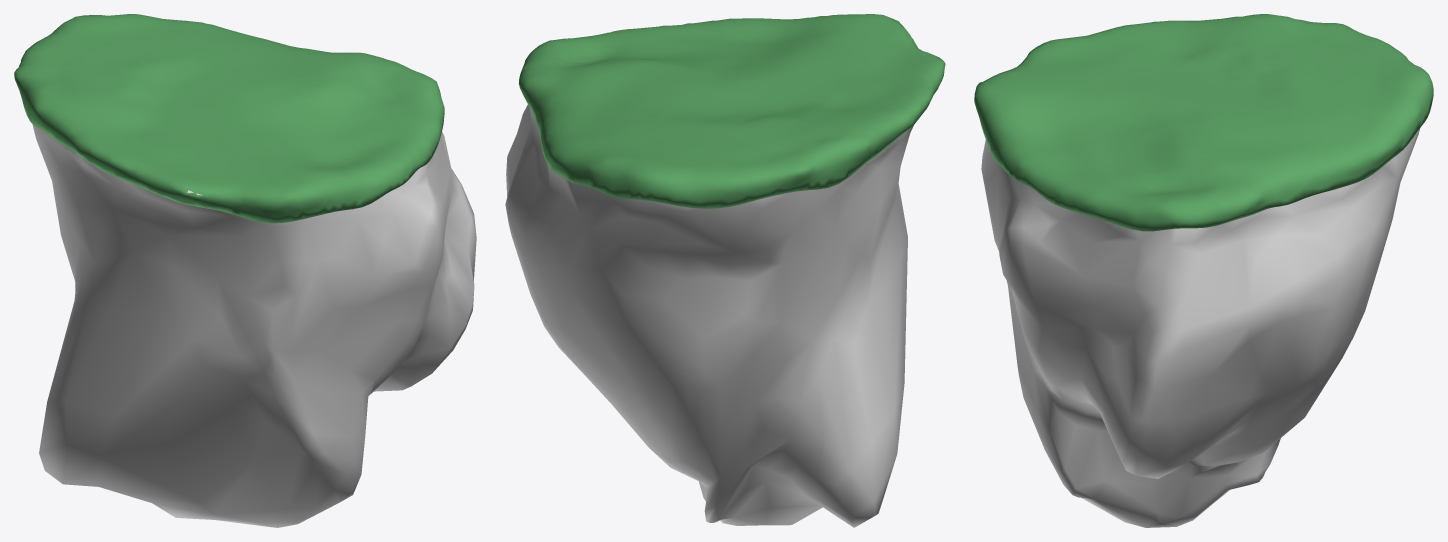
Rendered from IslandsSquareNewStyle1.fbx.
The picture shows the model from 3 angles, left to right: view 1: azimuth 30°, elevation 25°; view 2: azimuth 150°, elevation 25°; view 3: azimuth 270°, elevation 25°; orthographic projection. The views are drawn at different scales.
Parts seen in each view (by area): view 1: Cube.001, Cube.005; view 2: Cube.001, Cube.005; view 3: Cube.001, Cube.005.
Part boxes in pixels (bbox=[...]): Cube.001: bbox=[32, 124, 476, 527]; Cube.005: bbox=[14, 14, 444, 223]; Cube.001: bbox=[505, 104, 913, 527]; Cube.005: bbox=[518, 14, 945, 208]; Cube.001: bbox=[981, 129, 1419, 527]; Cube.005: bbox=[974, 14, 1433, 231].
Size of the model in its own units: 2553 by 2717 by 2623.
